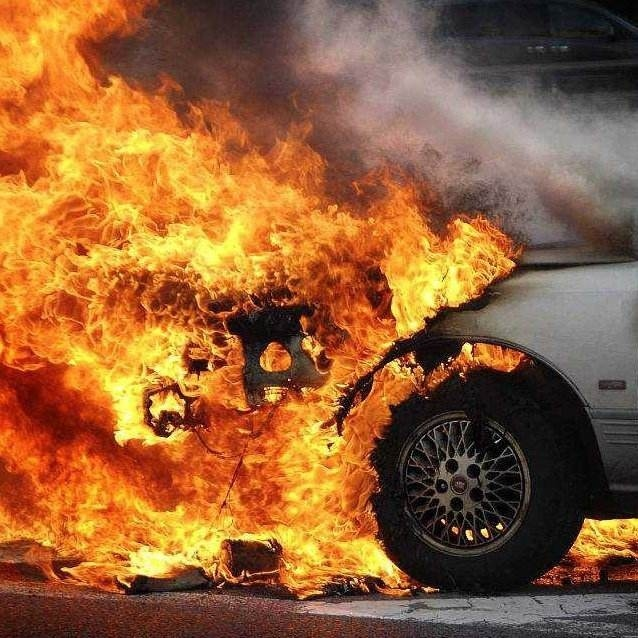fire: (0, 119, 547, 612), (543, 511, 638, 587)
